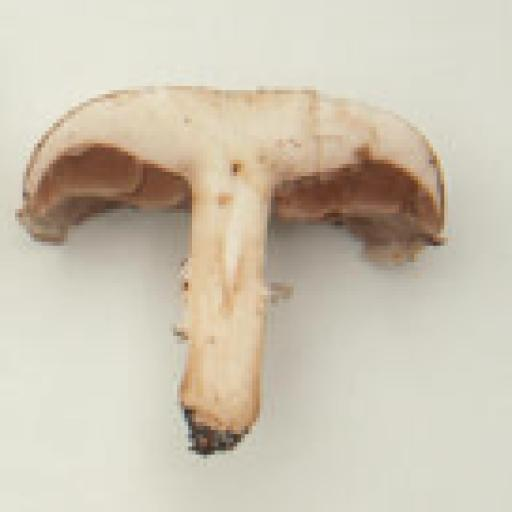mushroom: (16, 68, 444, 463)
